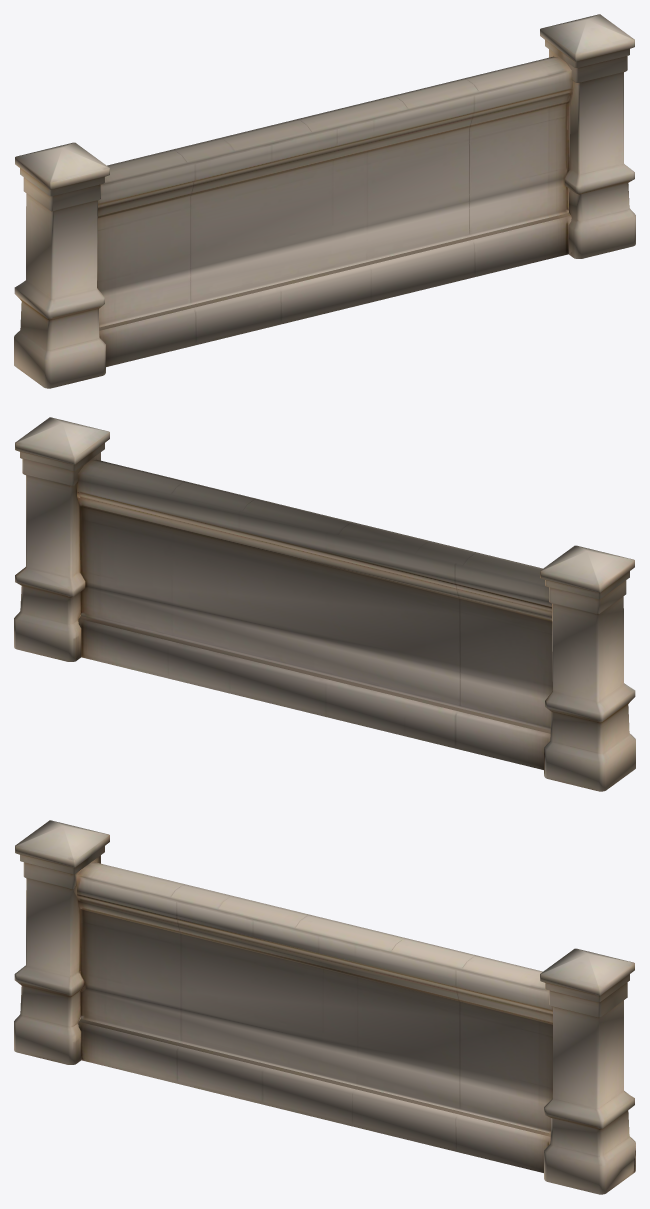
Rendered from palisade_wall_151f582d_v1.glb.
The picture shows the model from 3 angles, top to bottom: view 1: azimuth 30°, elevation 25°; view 2: azimuth 150°, elevation 25°; view 3: azimuth 330°, elevation 25°; orthographic projection.
Visible parts, largest first — view 1: material; view 2: material; view 3: material.
Boxes of the visible parts, left/top/right/bottom form: material: left=14, top=14, right=635, bottom=388; material: left=14, top=417, right=635, bottom=791; material: left=14, top=820, right=635, bottom=1194.
Size of the model in its own units: 1.9 by 0.6776 by 0.1972.
Materials: 1 (1 with a texture image).
